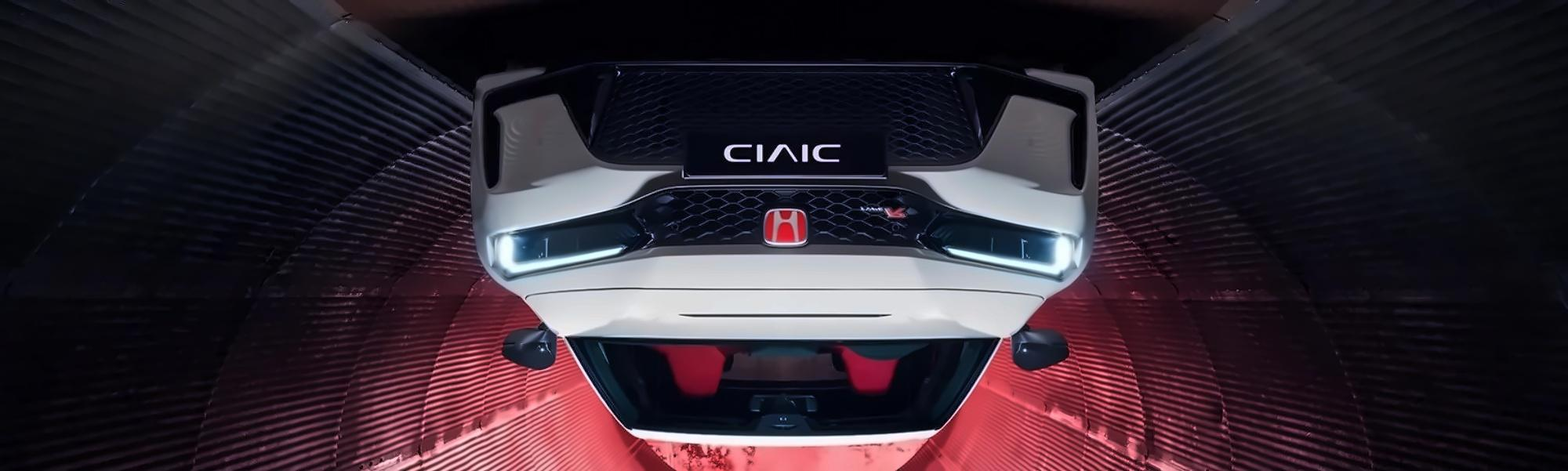Car hood: (495, 254, 1063, 347)
Front bumper: (471, 48, 1098, 238)
Headlight - -L-: (483, 210, 656, 282)
Headlight - -R-: (919, 203, 1080, 279)
Side mirror - -L-: (498, 324, 562, 370)
Side mirror - -R-: (1009, 320, 1070, 377)
